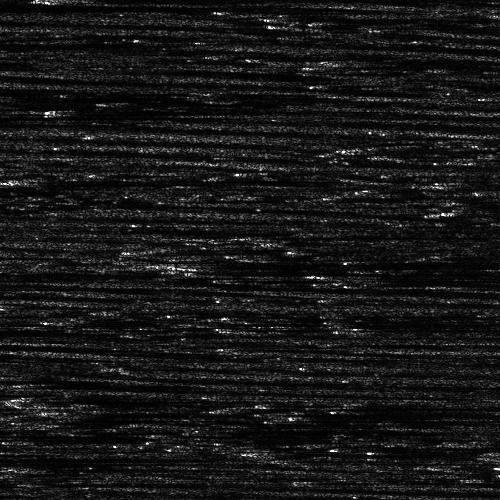rock: (84, 251, 281, 276), (271, 54, 386, 65), (0, 176, 83, 185), (16, 408, 89, 415), (0, 462, 66, 469), (438, 438, 500, 445), (47, 106, 100, 113), (259, 407, 300, 414), (22, 0, 115, 3), (0, 395, 46, 400), (226, 234, 279, 237), (205, 277, 246, 280), (4, 436, 35, 439)
shadow: (183, 251, 500, 276), (0, 0, 421, 15), (0, 90, 355, 101), (0, 97, 263, 110), (0, 447, 162, 466), (42, 176, 304, 185), (74, 106, 393, 113), (329, 54, 500, 65), (0, 111, 335, 116), (20, 462, 228, 469), (0, 119, 184, 126), (69, 0, 446, 3), (280, 407, 428, 414), (53, 408, 193, 415), (0, 40, 125, 47), (15, 395, 153, 400), (253, 234, 478, 237), (0, 373, 47, 382), (226, 277, 299, 280), (20, 436, 89, 439), (475, 438, 500, 445)
